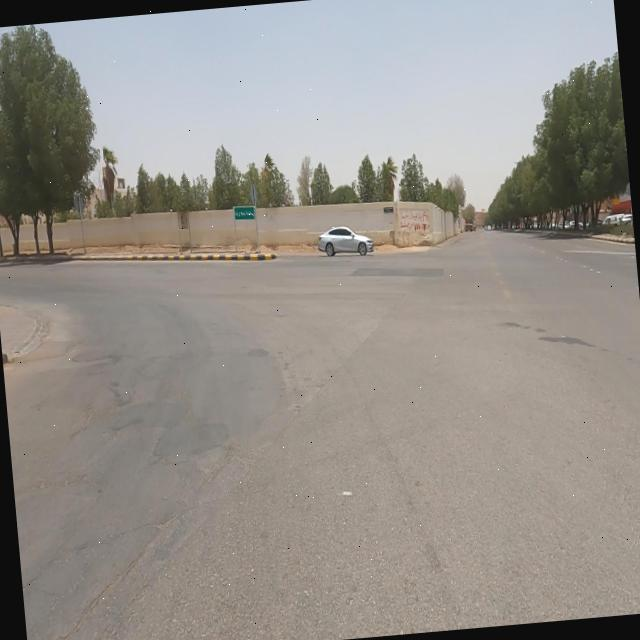Graffiti: (399, 210, 432, 240)
